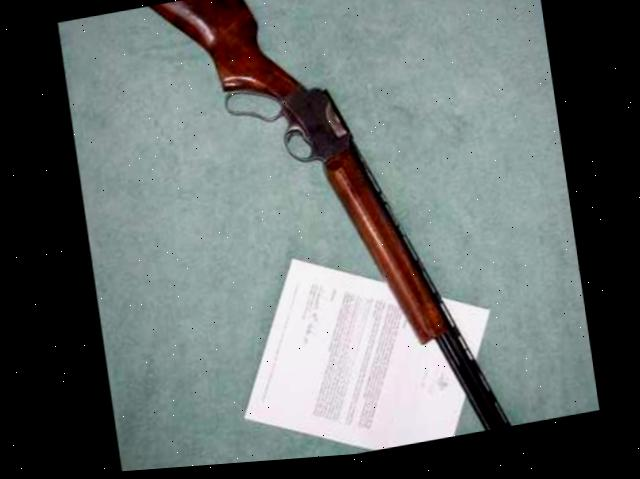rifle: (91, 0, 558, 474)
